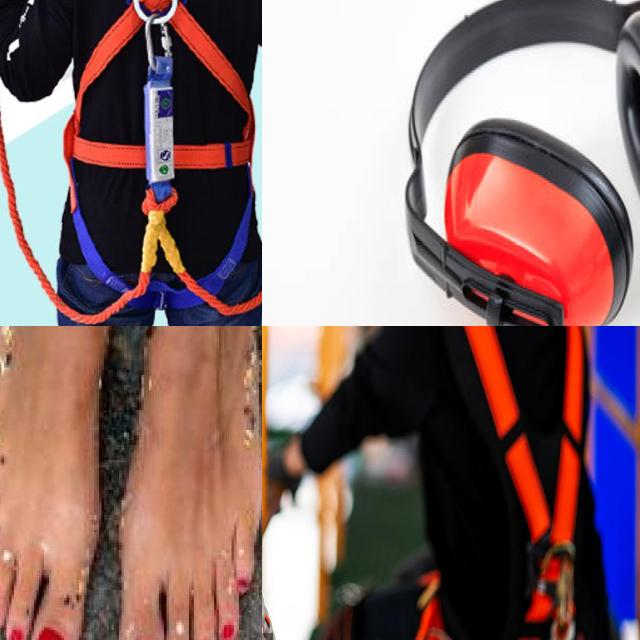Barefoots: (117, 326, 262, 640), (0, 326, 124, 640)
Ear-protection: (385, 0, 640, 326)
Harness: (64, 0, 260, 324), (416, 326, 600, 640)
